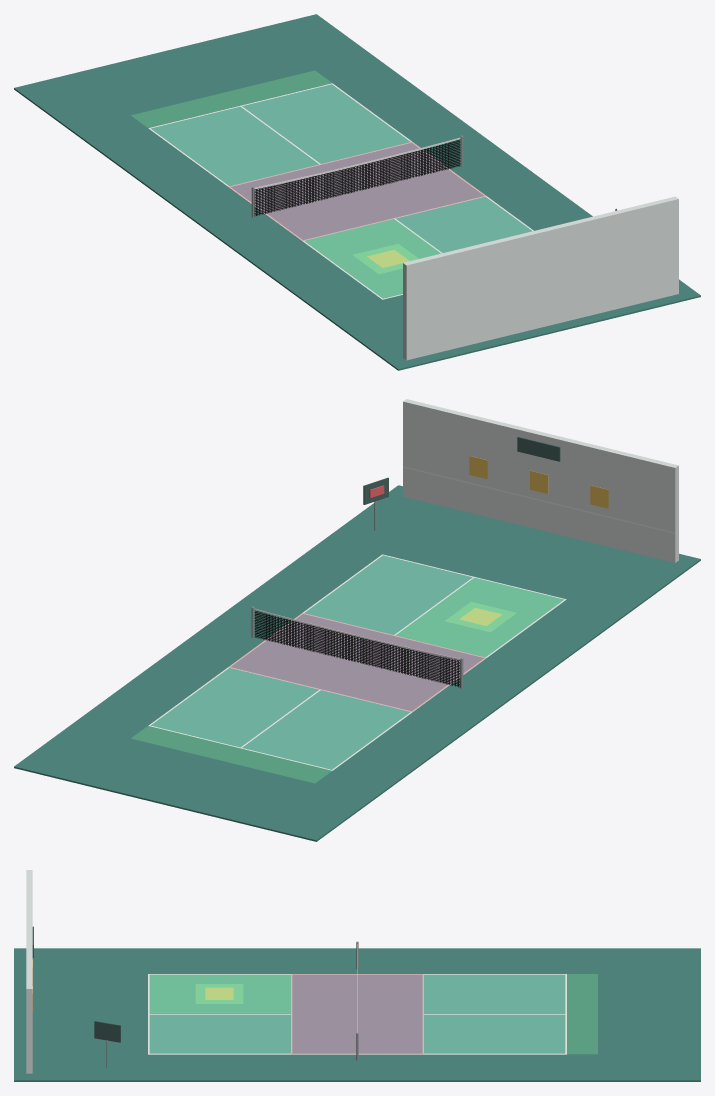
File: PickleballCourt.glb
The picture shows the model from 3 angles, top to bottom: view 1: azimuth 30°, elevation 25°; view 2: azimuth 150°, elevation 25°; view 3: azimuth 270°, elevation 25°; orthographic projection. The views are drawn at different scales.
Visible parts, largest first — view 1: Floor_Runoff, Wall_Rebound, Court_Service_A, Court_Service_B, Overlay_Kitchen_B, Court_Kitchen_B, Net_Mesh, Overlay_ServiceCourt_Target, Court_Kitchen_A, Overlay_Kitchen_A, Overlay_ServeZone, Lines_Boundary (+1 smaller); view 2: Floor_Runoff, Wall_Rebound, Court_Service_A, Court_Service_B, Overlay_Kitchen_A, Court_Kitchen_A, Overlay_ServiceCourt_Target, Net_Mesh, Court_Kitchen_B, Overlay_Kitchen_B, Overlay_ServeZone, Lines_Boundary (+2 smaller); view 3: Floor_Runoff, Court_Service_A, Court_Service_B, Overlay_Kitchen_A, Overlay_Kitchen_B, Court_Kitchen_A, Court_Kitchen_B, Overlay_ServiceCourt_Target, Overlay_ServeZone, Lines_Boundary, Wall_Rebound, Overlay_Target_5x5ft (+2 smaller).
Boxes of the visible parts, <box> form: Floor_Runoff: <box>14,14,700,370</box>; Wall_Rebound: <box>403,196,678,360</box>; Court_Service_A: <box>148,84,410,186</box>; Court_Service_B: <box>304,197,532,299</box>; Overlay_Kitchen_B: <box>266,169,485,240</box>; Court_Kitchen_B: <box>267,169,483,239</box>; Net_Mesh: <box>254,139,460,216</box>; Overlay_ServiceCourt_Target: <box>305,219,440,298</box>; Court_Kitchen_A: <box>228,143,447,213</box>; Overlay_Kitchen_A: <box>229,142,447,212</box>; Overlay_ServeZone: <box>131,70,331,127</box>; Lines_Boundary: <box>148,83,533,299</box>; Floor_Runoff: <box>14,485,700,841</box>; Wall_Rebound: <box>403,399,678,562</box>; Court_Service_A: <box>151,668,411,770</box>; Court_Service_B: <box>304,555,566,657</box>; Overlay_Kitchen_A: <box>229,640,448,711</box>; Court_Kitchen_A: <box>231,641,447,712</box>; Overlay_ServiceCourt_Target: <box>396,578,563,656</box>; Net_Mesh: <box>254,610,460,687</box>; Court_Kitchen_B: <box>267,614,484,684</box>; Overlay_Kitchen_B: <box>267,613,485,684</box>; Overlay_ServeZone: <box>131,726,331,783</box>; Lines_Boundary: <box>148,554,566,770</box>; Floor_Runoff: <box>14,948,700,1081</box>; Court_Service_A: <box>424,974,565,1053</box>; Court_Service_B: <box>149,974,290,1053</box>; Overlay_Kitchen_A: <box>358,974,423,1053</box>; Overlay_Kitchen_B: <box>291,974,356,1053</box>; Court_Kitchen_A: <box>357,974,422,1053</box>; Court_Kitchen_B: <box>292,974,357,1053</box>; Overlay_ServiceCourt_Target: <box>150,975,290,1013</box>; Overlay_ServeZone: <box>567,974,597,1053</box>; Lines_Boundary: <box>148,974,566,1054</box>; Wall_Rebound: <box>26,870,32,1073</box>; Overlay_Target_5x5ft: <box>195,984,243,1003</box>.
Size of the model in its own units: 10 by 3.05 by 22.
15 materials, 1 textured.
